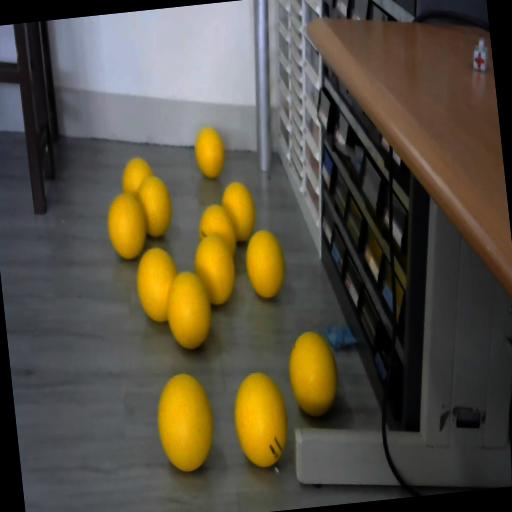FUEL: (152, 370, 218, 474), (229, 368, 293, 470), (284, 328, 340, 418), (162, 270, 216, 353), (190, 232, 240, 307), (242, 227, 288, 300), (104, 191, 150, 261), (136, 173, 174, 240), (220, 180, 259, 244), (192, 126, 226, 180)
